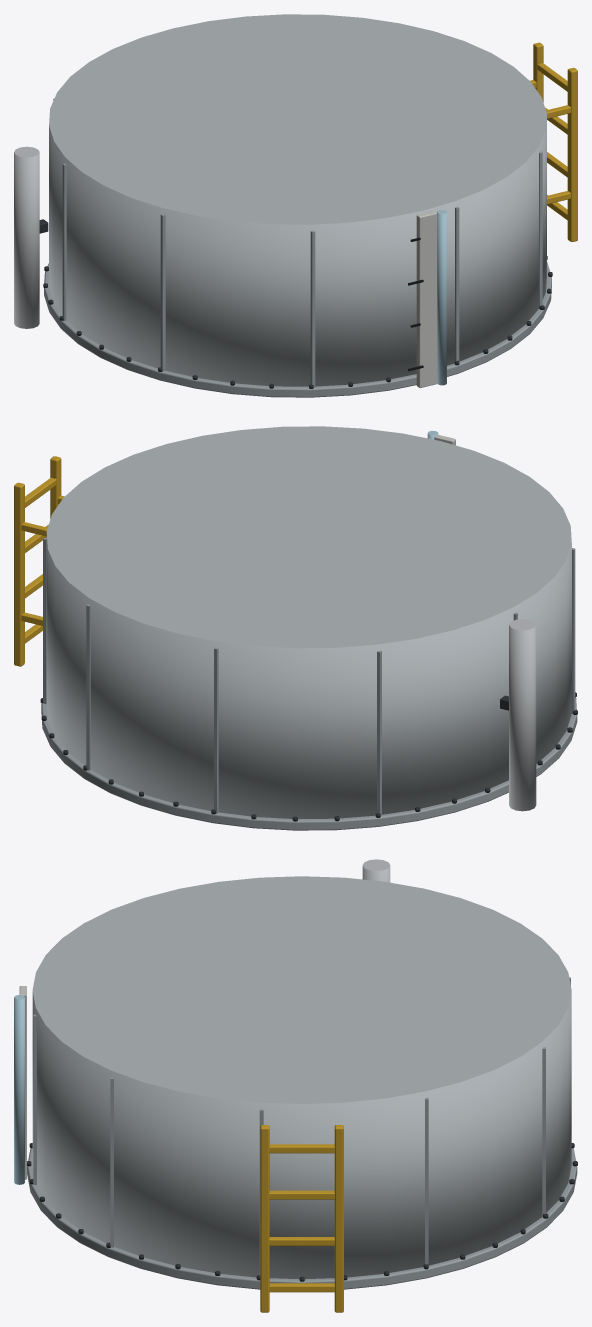
The model's file is fy_tankring.glb.
3 renders of one model, top to bottom at view 1: azimuth 30°, elevation 25°; view 2: azimuth 150°, elevation 25°; view 3: azimuth 270°, elevation 25°, orthographic. The views are drawn at different scales.
Parts seen in each view (by area): view 1: cyl.001, cyl.002, cyl, block.021, block.012, cyl.043, block.005, block.004, block.006, block.003, block.002; view 2: cyl.001, cyl.002, cyl, block.011, block.009, block.008, block.007, block.010, block.005, block.012; view 3: cyl.001, cyl.002, cyl.043, block.012, block.011, block.002, block.003, block.009, block.010, block.013, block.016, block.015 (+2 smaller).
Boxes of the visible parts, x1,y1,x2,y2 form: cyl.001: (49, 14, 546, 386); cyl.002: (44, 262, 551, 397); cyl: (14, 146, 39, 328); block.021: (416, 211, 437, 388); block.012: (567, 67, 577, 241); cyl.043: (437, 210, 446, 385); block.005: (160, 214, 165, 371); block.004: (310, 231, 315, 387); block.006: (62, 163, 66, 320); block.003: (455, 206, 459, 360); block.002: (539, 151, 542, 308); cyl.001: (46, 426, 571, 818); cyl.002: (41, 697, 577, 830); cyl: (509, 619, 536, 811); block.011: (14, 482, 24, 666); block.009: (86, 604, 90, 770); block.008: (214, 647, 218, 813); block.007: (377, 651, 381, 815); block.010: (43, 538, 46, 703); block.005: (572, 548, 575, 713); block.012: (50, 456, 61, 518); cyl.001: (32, 876, 571, 1279); cyl.002: (27, 1148, 577, 1289); cyl.043: (14, 995, 24, 1184); block.012: (260, 1125, 269, 1312); block.011: (334, 1125, 343, 1312); block.002: (110, 1077, 113, 1247); block.003: (33, 1014, 36, 1184); block.009: (542, 1047, 545, 1217); block.010: (425, 1097, 428, 1264); block.013: (269, 1283, 334, 1292); block.016: (269, 1144, 334, 1153); block.015: (269, 1190, 334, 1199).
Bounding box in the file's own units: 3.42 × 1.1 × 3.03.
